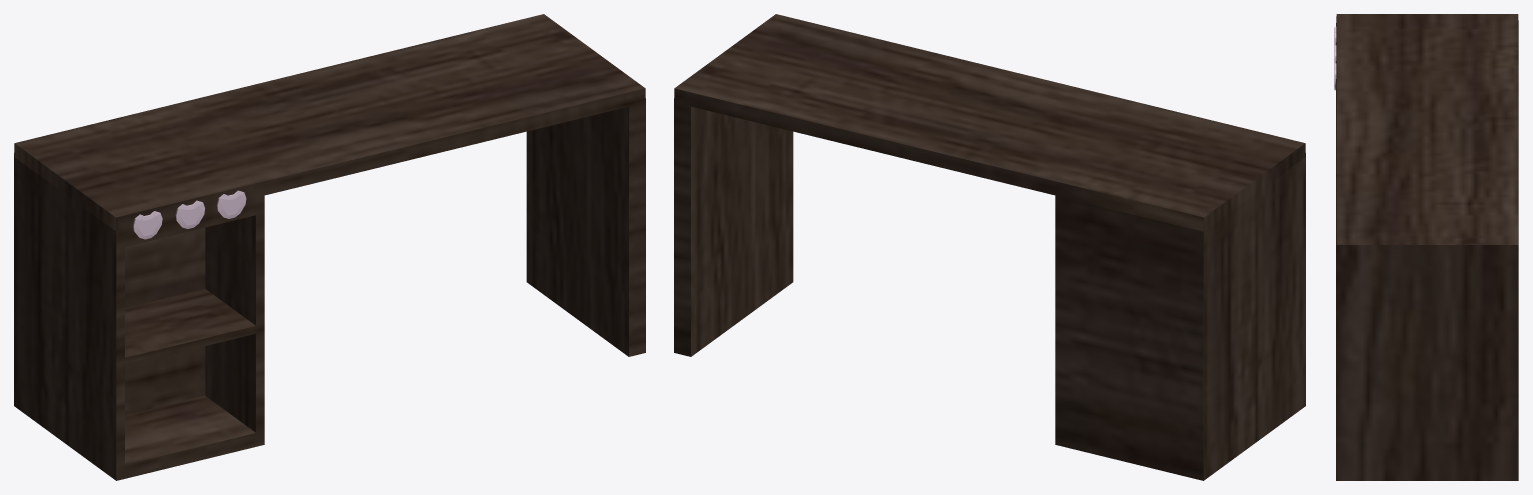
Rendered from desk.fbx.
3 views of the same model, side by side, from view 1: azimuth 30°, elevation 25°; view 2: azimuth 150°, elevation 25°; view 3: azimuth 270°, elevation 25° (orthographic). The views are drawn at different scales.
Visible parts, largest first — view 1: table; view 2: table; view 3: table.
Boxes of the visible parts, bbox=[...] form: table: bbox=[14, 14, 645, 480]; table: bbox=[674, 14, 1305, 480]; table: bbox=[1336, 14, 1518, 480].
Size of the model in its own units: 212 by 101 by 71.8.
